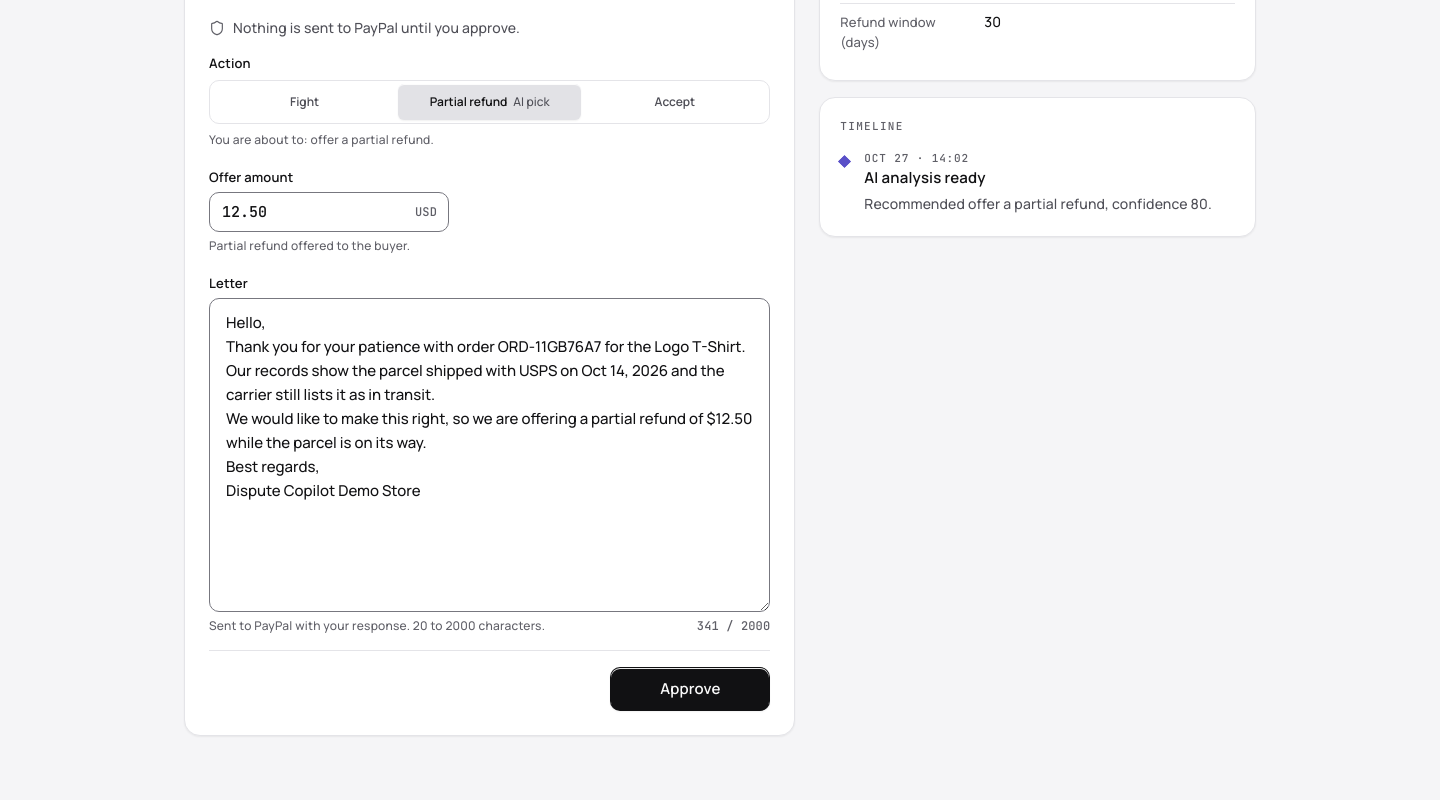
Scenario: Review page › 409 {"error":"action already pending"} message clears once the reload shows a new state
(page scrolled)
What coordinates should you click on to do the following:
click the button "Approve"
I would click on:
 (690, 689)
Its box is [610,667,770,711].
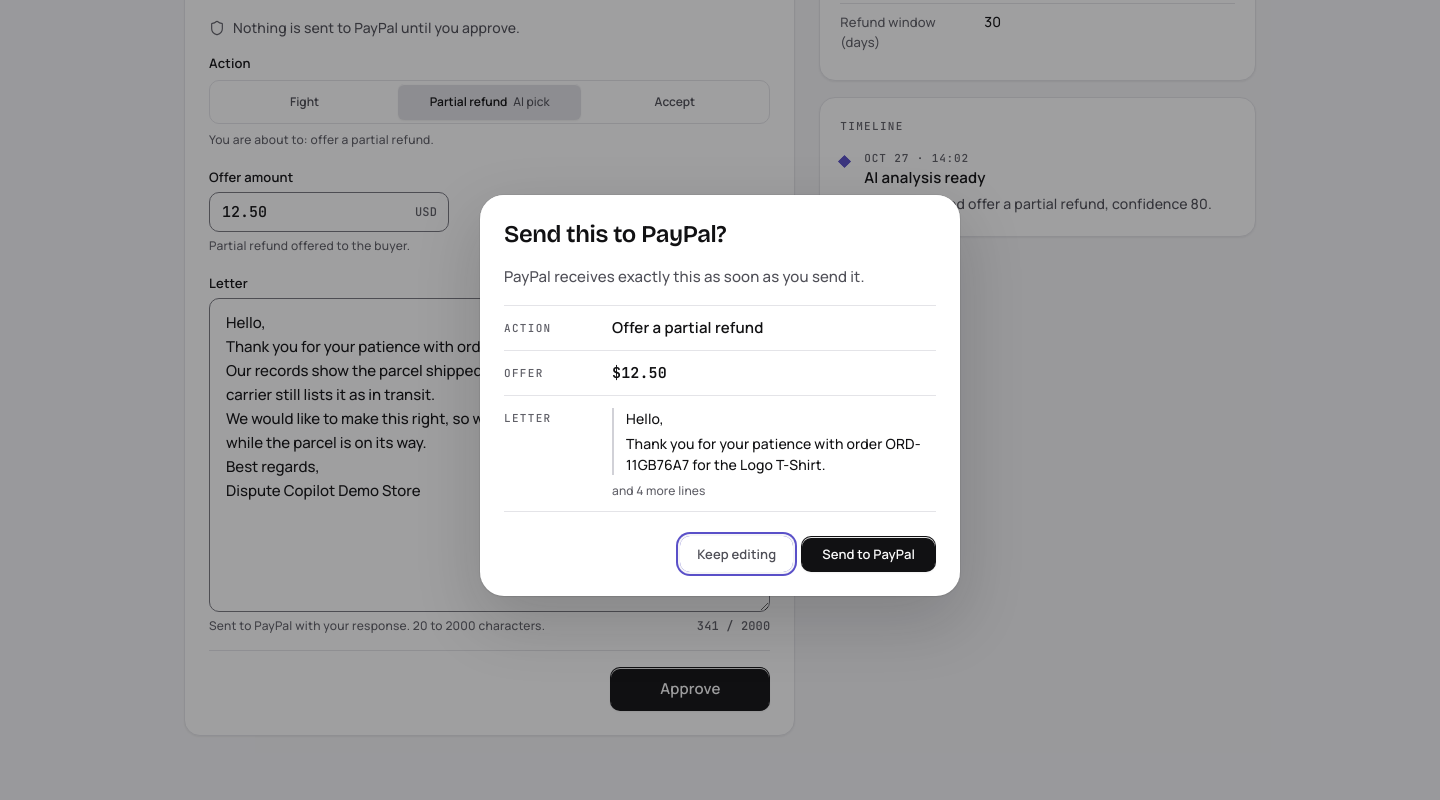
What coordinates should you click on to do the following:
click the button "Send to PayPal"
I would click on:
 (869, 554)
Its box is [801,536,936,572].
(page scrolled)
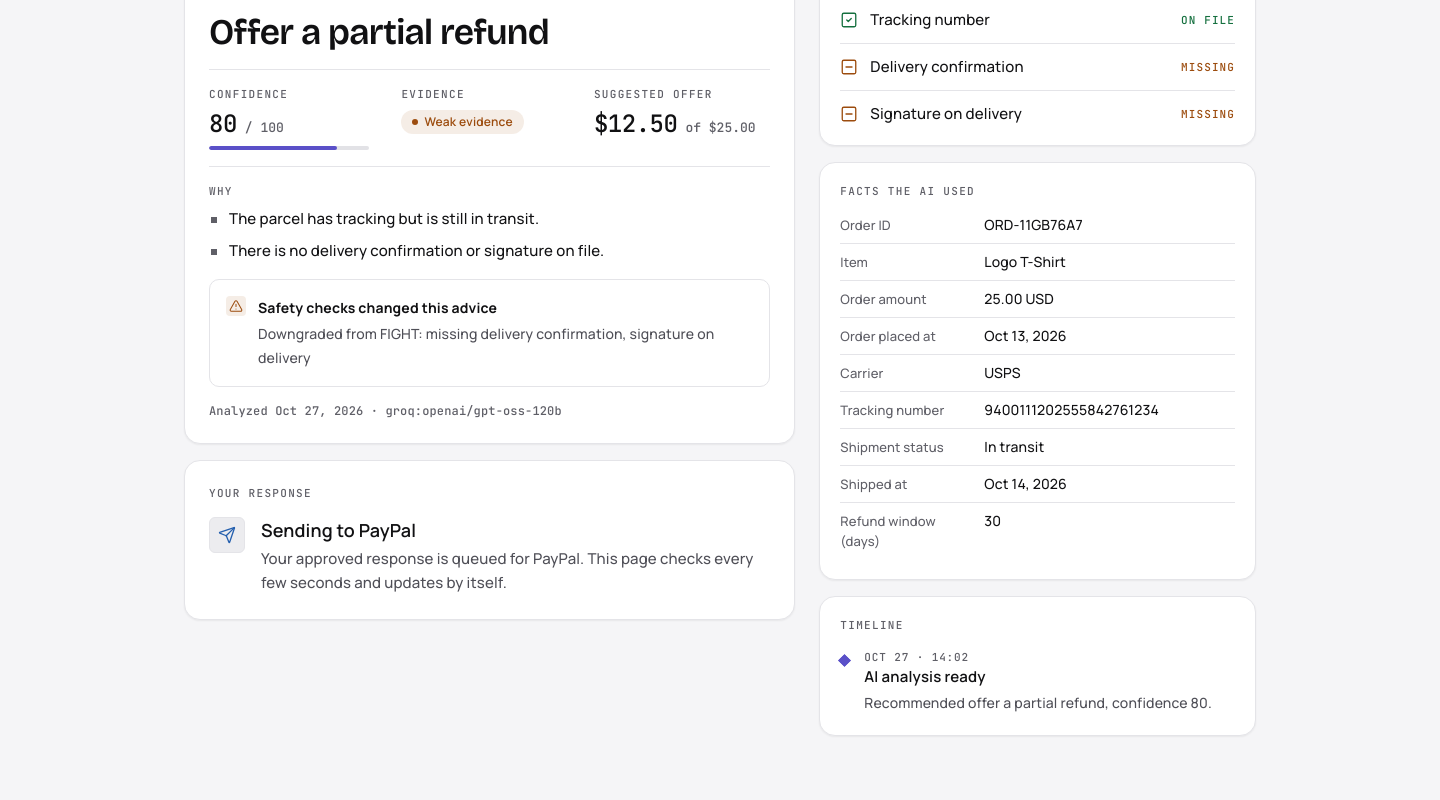
expect the text "Sending to PayPal" is shown: met, box [261,518,416,542]
